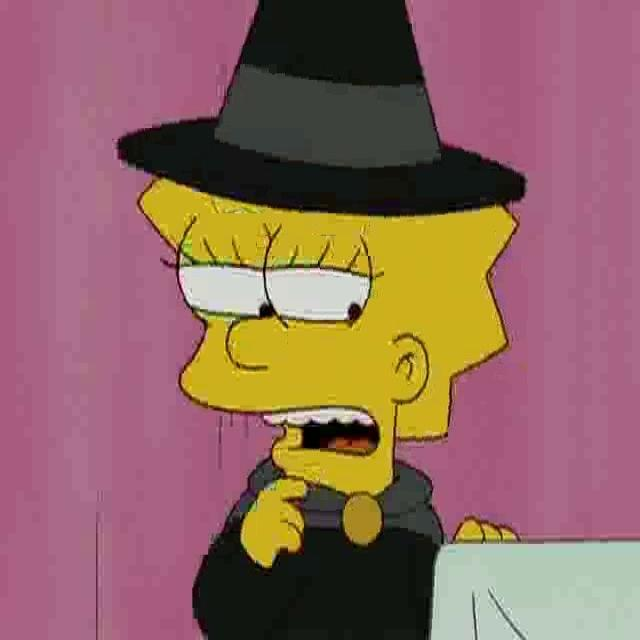Lisa Simpson: (132, 171, 528, 501)
